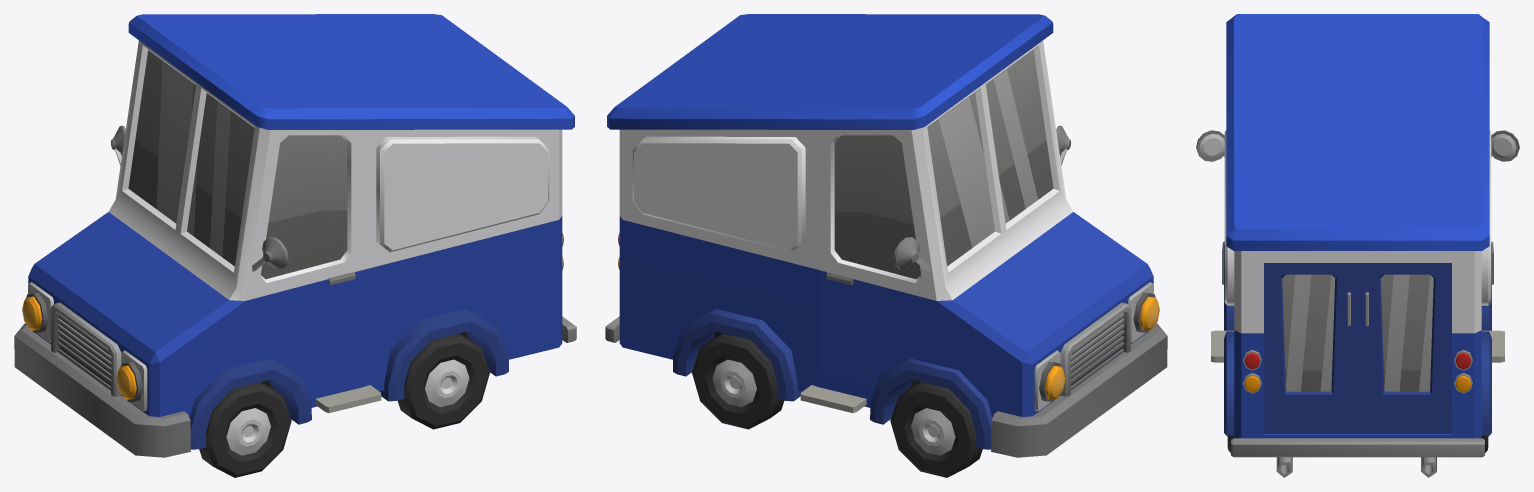
The model's file is Car_15_B.gltf.
3 views of the same model, side by side, from view 1: azimuth 30°, elevation 25°; view 2: azimuth 150°, elevation 25°; view 3: azimuth 270°, elevation 25° (orthographic). The views are drawn at different scales.
Parts seen in each view (by area): view 1: Car_15_B, RL, FL; view 2: Car_15_B, RR, FR; view 3: Car_15_B.
Boxes of the visible parts, x1,y1,x2,y2 form: Car_15_B: [14, 14, 576, 457]; RL: [397, 333, 489, 429]; FL: [199, 382, 291, 477]; Car_15_B: [605, 14, 1167, 457]; RR: [692, 333, 784, 429]; FR: [890, 382, 982, 477]; Car_15_B: [1196, 14, 1519, 477].
Size of the model in its own units: 2.75 by 2.13 by 1.8.
Materials: 4 (4 with a texture image).
